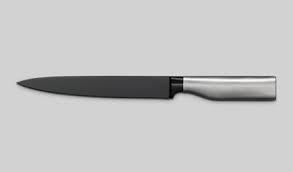Knife: (16, 74, 276, 101)
